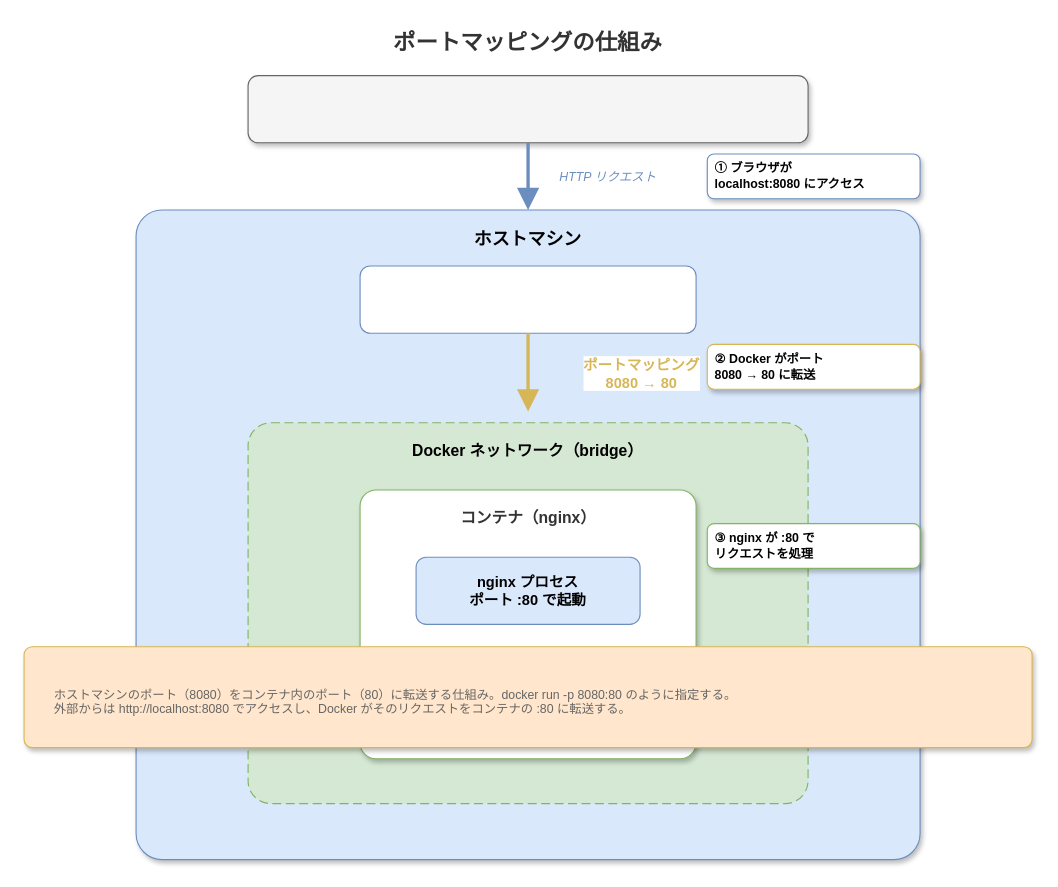
Some shapes in this 1058 by 887 pixel diagram are drawn without their labels. Each missing label, with the centre of its shape:
"ポート 8080 で待ち受け http://localhost:8080" belongs at point (527, 299).
"ポートマッピングとは" belongs at point (528, 698).
"🌐 外部（インターネット / ブラウザ）" belongs at point (528, 110).
